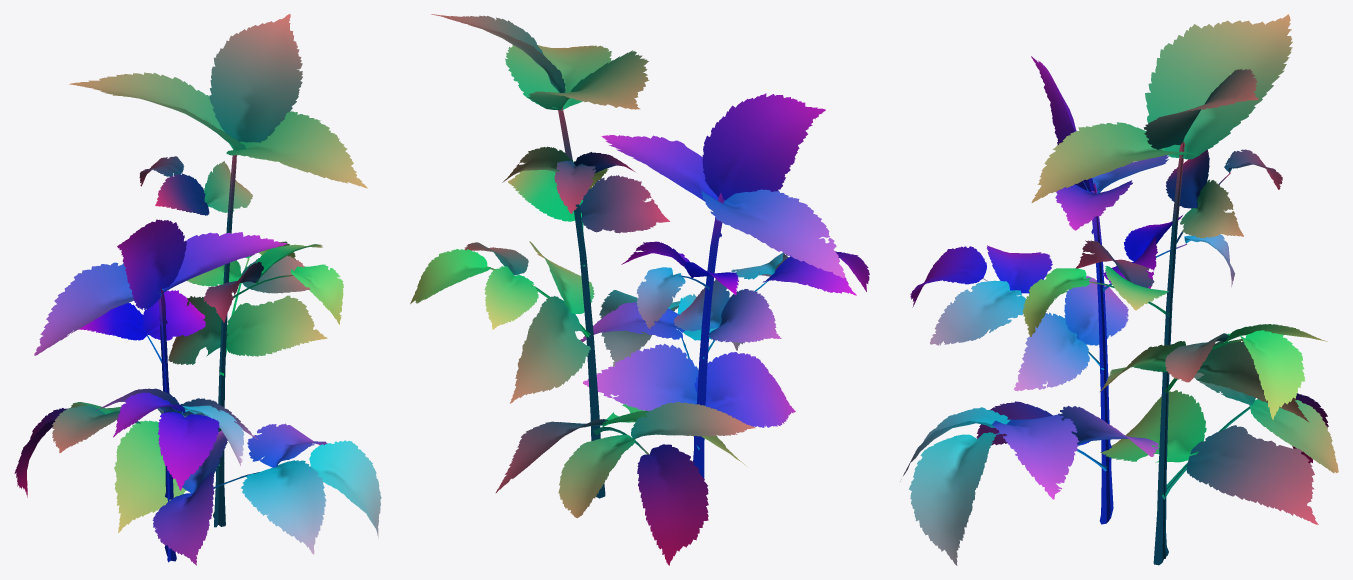
Rendered from Raspberry_wf0oefeja_Raw_wf0oefeja_VarC_LOD0.fbx.
3 views of the same model, side by side, from view 1: azimuth 30°, elevation 25°; view 2: azimuth 150°, elevation 25°; view 3: azimuth 270°, elevation 25° (orthographic). The views are drawn at different scales.
Visible parts, largest first — view 1: _4k2l_VarC_High; view 2: _4k2l_VarC_High; view 3: _4k2l_VarC_High.
Part boxes in pixels (bbox=[...]): _4k2l_VarC_High: bbox=[14, 14, 381, 565]; _4k2l_VarC_High: bbox=[410, 14, 869, 565]; _4k2l_VarC_High: bbox=[900, 14, 1338, 565].
Size of the model in its own units: 12.36 by 16.09 by 12.13.
